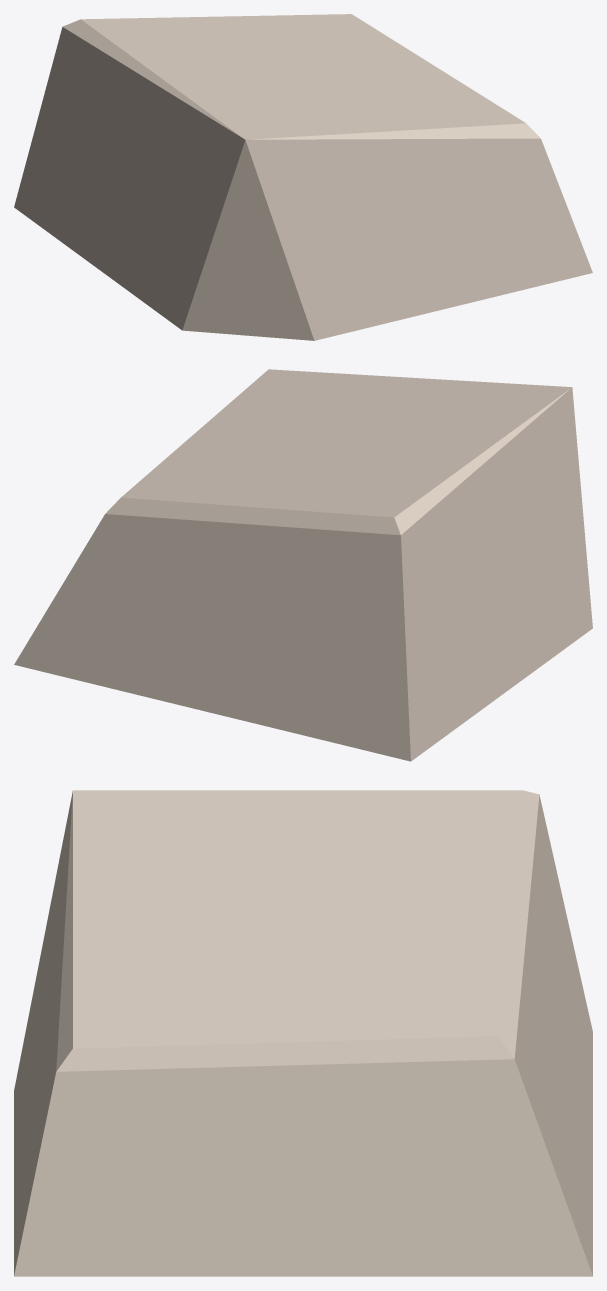
Rendered from stone_06.obj.
3 renders of one model, top to bottom at view 1: azimuth 30°, elevation 25°; view 2: azimuth 150°, elevation 25°; view 3: azimuth 270°, elevation 25°, orthographic. The views are drawn at different scales.
Visible parts, largest first — view 1: Stone_06; view 2: Stone_06; view 3: Stone_06.
Boxes of the visible parts, box(x1,y1,x2,y2) form: Stone_06: box(14, 14, 592, 340); Stone_06: box(14, 369, 592, 761); Stone_06: box(14, 790, 592, 1276).
Bounding box in the file's own units: 8.3 × 4.26 × 8.3.
